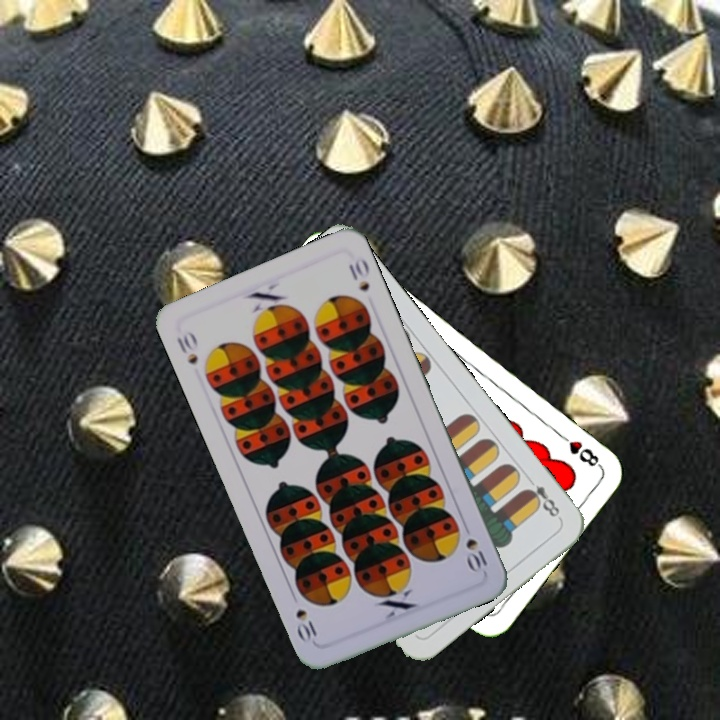E8: (520, 472, 562, 523)
H8: (554, 429, 605, 471)
S10: (172, 327, 201, 368), (462, 534, 490, 576)
